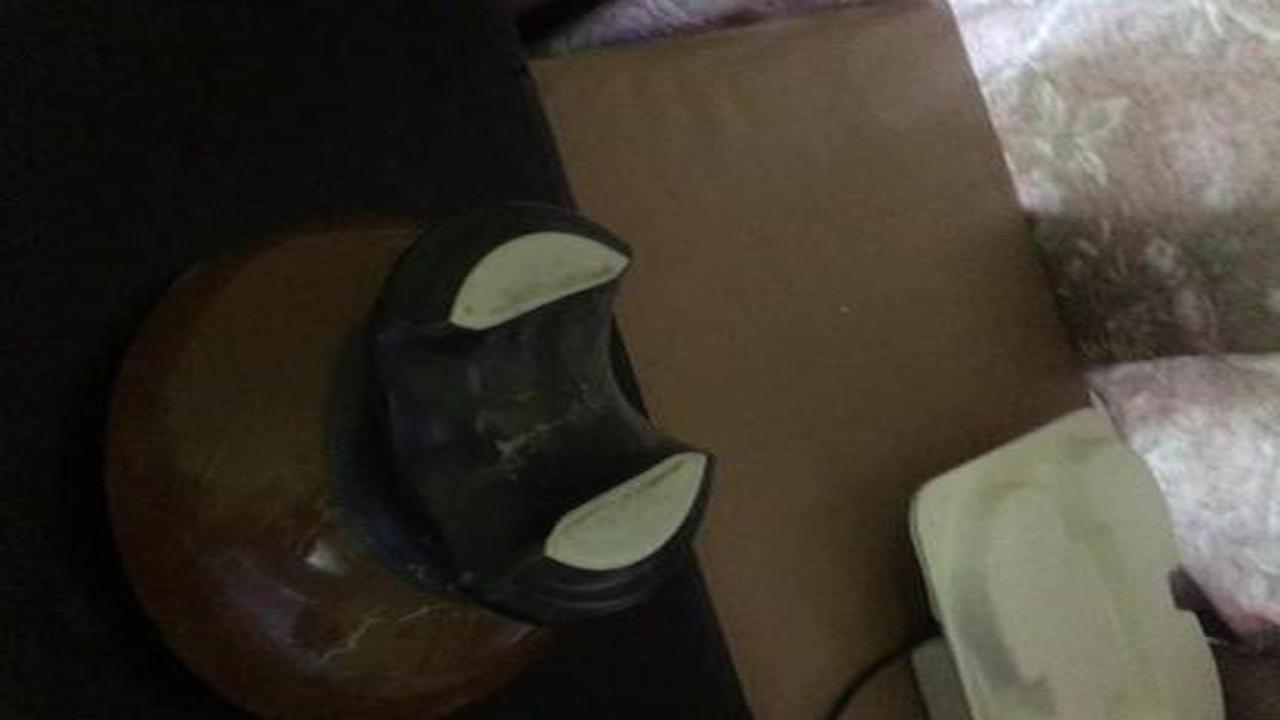insulator_pin: (81, 196, 733, 719)
